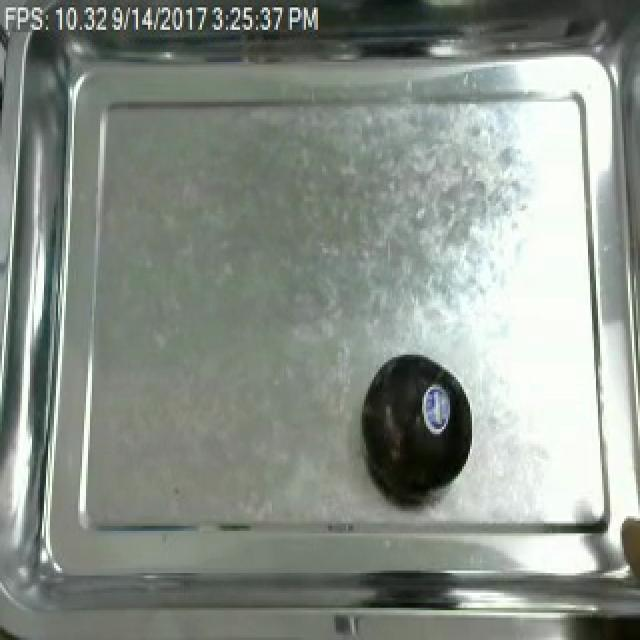Fruit: (354, 345, 472, 496), (608, 508, 640, 588)
